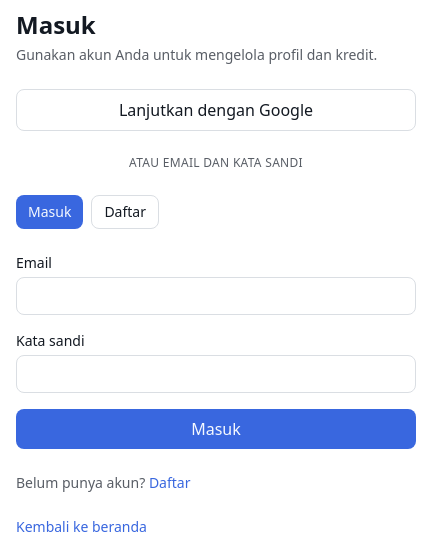
Test: SignInPage › shows a loading state while the Google redirect is being prepared
Click the button "Lanjutkan dengan Google".
click(216, 110)  # box x1=16 y1=89 x2=416 y2=131
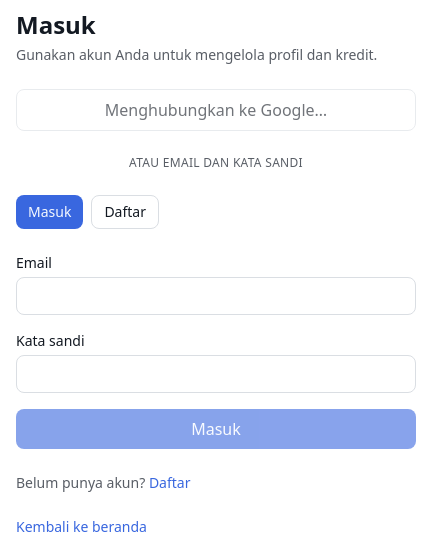
Result: the button "Menghubungkan ke Google…" is disabled at x1=16 y1=89 x2=416 y2=131
